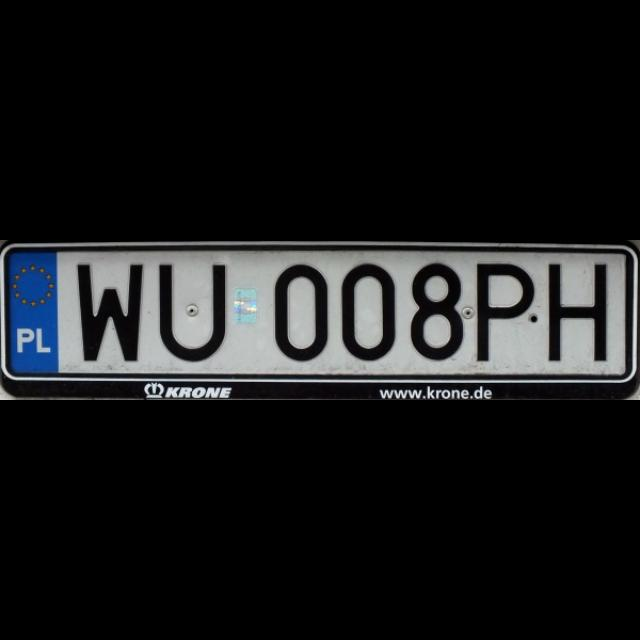pl_license_plate: (8, 252, 626, 376)
